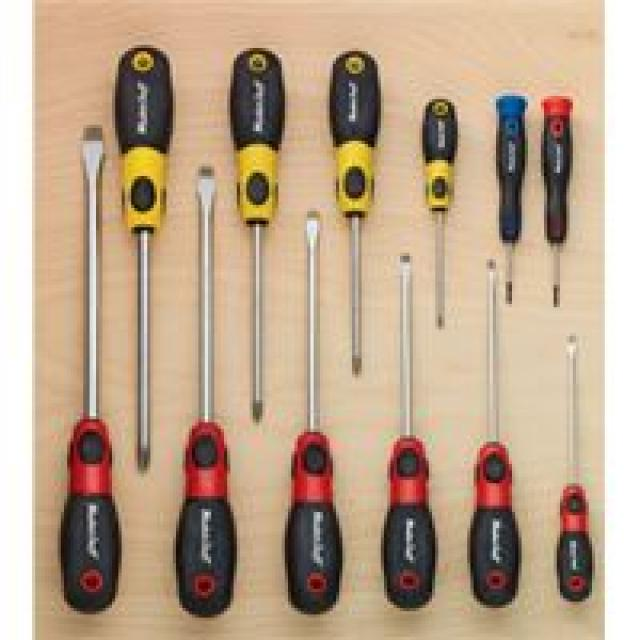screw driver: (53, 111, 130, 616), (166, 160, 250, 618), (107, 42, 175, 473), (283, 210, 353, 610), (378, 245, 453, 616), (222, 37, 292, 428), (462, 249, 534, 619), (320, 44, 390, 390), (548, 319, 608, 602), (410, 90, 468, 330)
